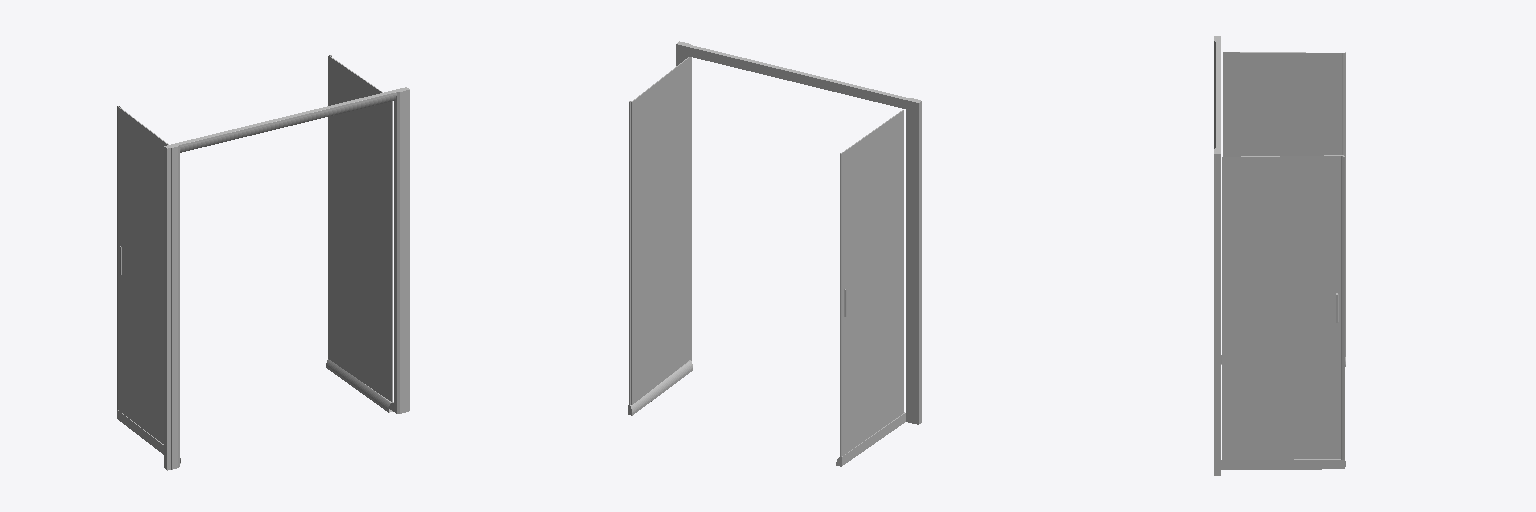
The model's file is Dooropen2.obj.
The picture shows the model from 3 angles: view 1: azimuth 30°, elevation 25°; view 2: azimuth 150°, elevation 25°; view 3: azimuth 270°, elevation 25°; orthographic projection.
Bounding box in the file's own units: 14.7 × 18.62 × 6.94.